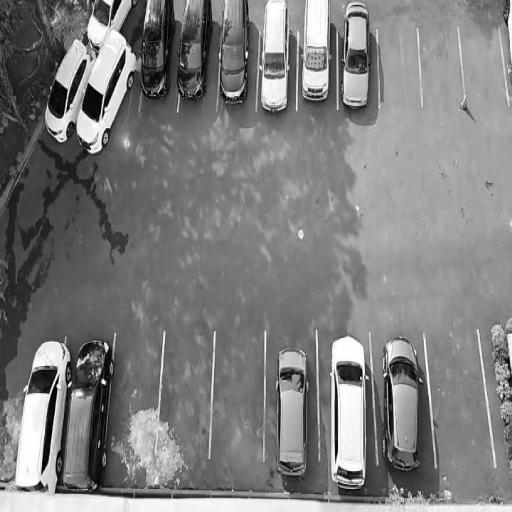Car: (9, 336, 74, 495), (69, 23, 141, 161), (59, 328, 116, 492), (35, 33, 97, 153), (325, 332, 371, 492), (379, 329, 425, 472), (271, 337, 315, 481), (175, 0, 216, 104), (137, 0, 177, 106), (258, 0, 294, 117), (340, 0, 374, 115), (218, 0, 253, 106), (299, 0, 333, 109), (82, 0, 139, 55)
Space Available: (425, 331, 494, 465), (209, 326, 265, 459), (155, 329, 214, 454), (105, 330, 165, 447), (458, 26, 508, 105), (417, 28, 465, 104), (378, 28, 421, 106)
